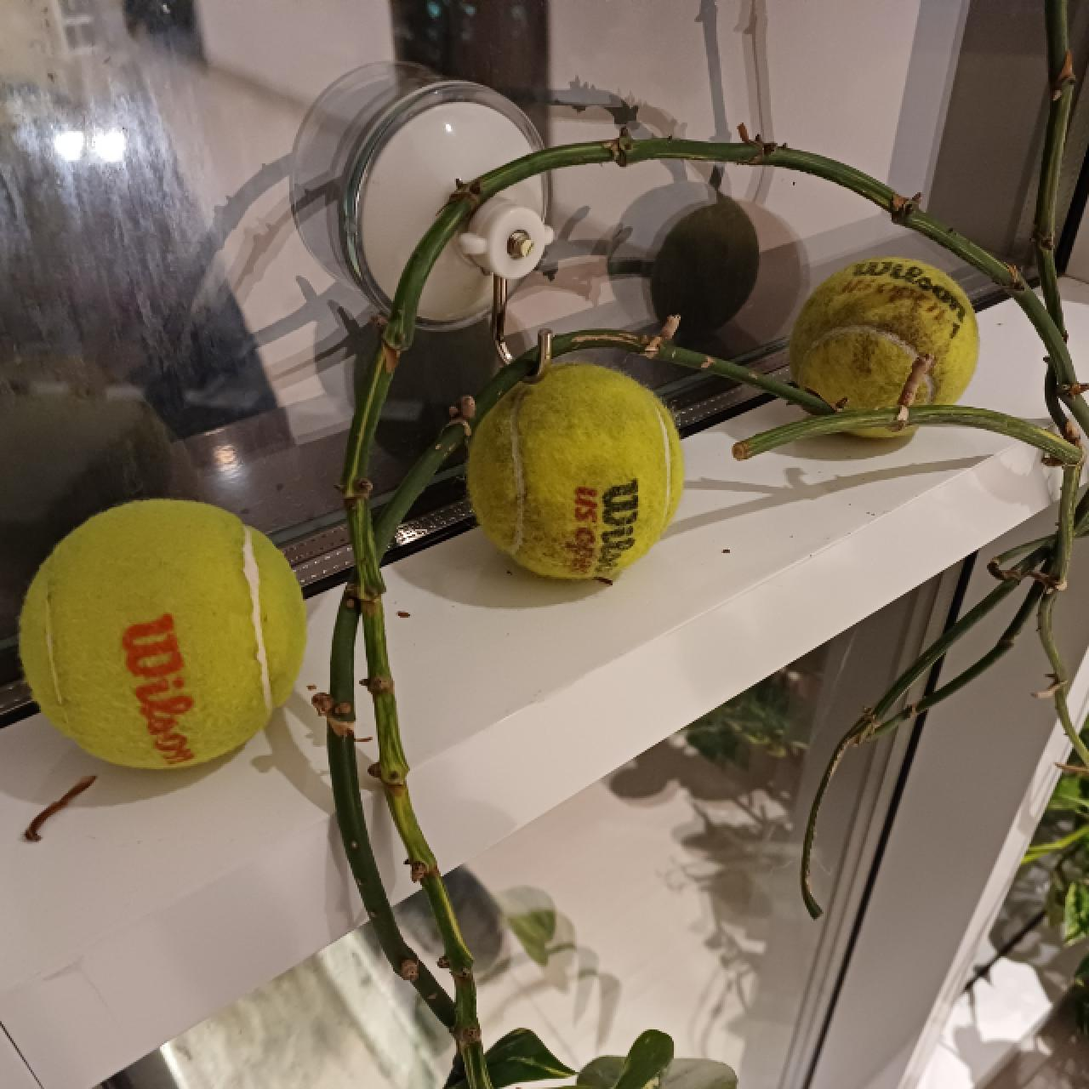tennis-ball: (17, 498, 305, 774), (464, 362, 685, 583), (789, 255, 979, 442)
